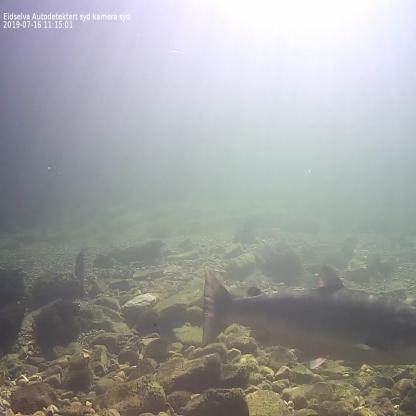salmon: (199, 259, 415, 371)
